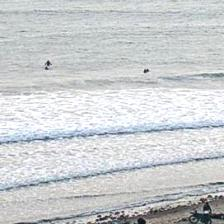surfer: (44, 60, 52, 66), (146, 68, 150, 72), (44, 66, 48, 69), (144, 69, 146, 74)
